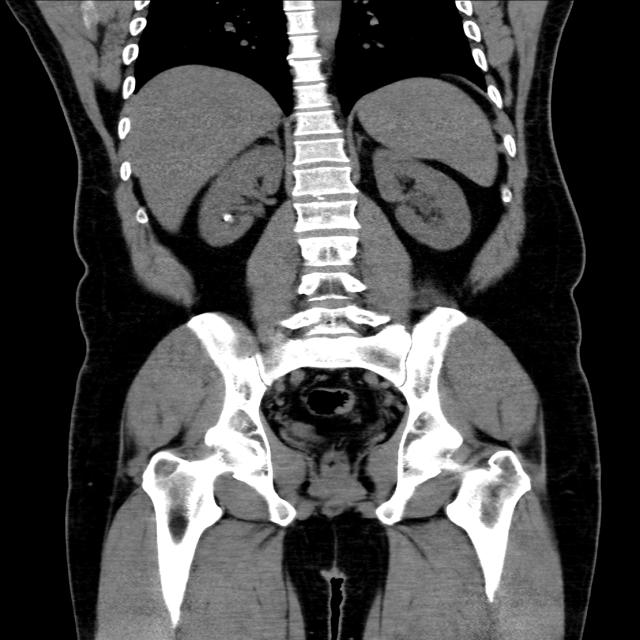kidneystone: (223, 212, 234, 223)
